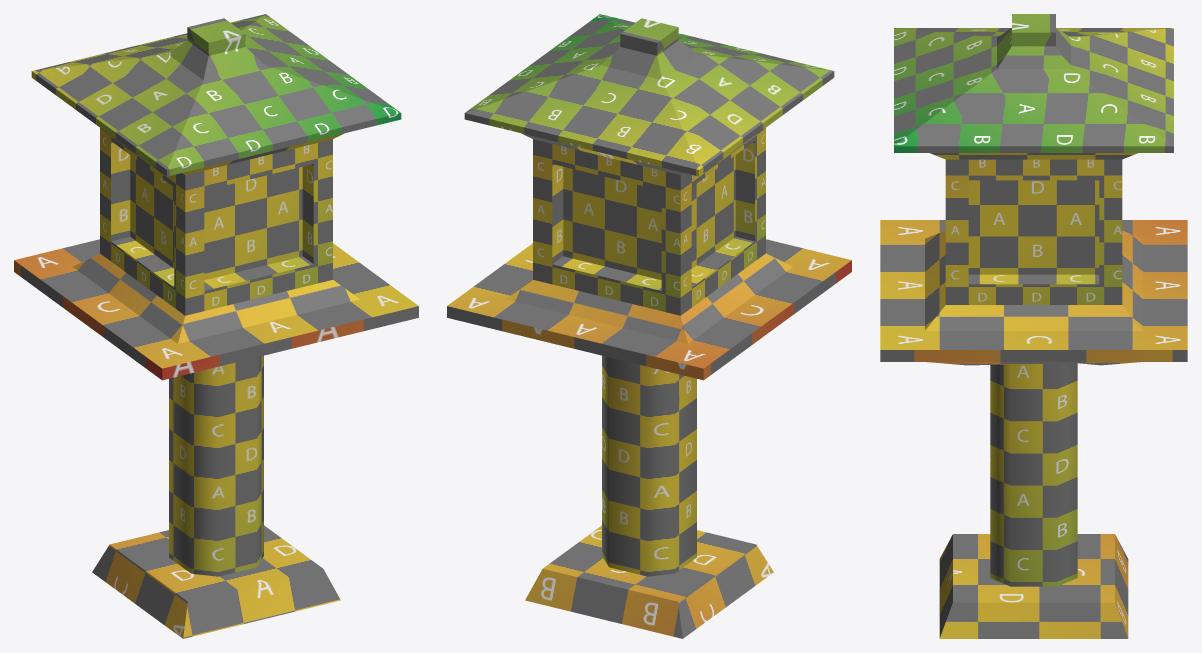
File: md_gardenlantern_v3.fbx
3 renders of one model, left to right at view 1: azimuth 30°, elevation 25°; view 2: azimuth 150°, elevation 25°; view 3: azimuth 270°, elevation 25°, orthographic. The views are drawn at different scales.
Parts seen in each view (by area): view 1: GardenLantern; view 2: GardenLantern; view 3: GardenLantern.
Boxes of the visible parts, x1,y1,x2,y2 form: GardenLantern: (14,14,418,638); GardenLantern: (447,14,851,638); GardenLantern: (880,14,1187,638).
Bounding box in the file's own units: 24.07 × 49.8 × 24.07.
